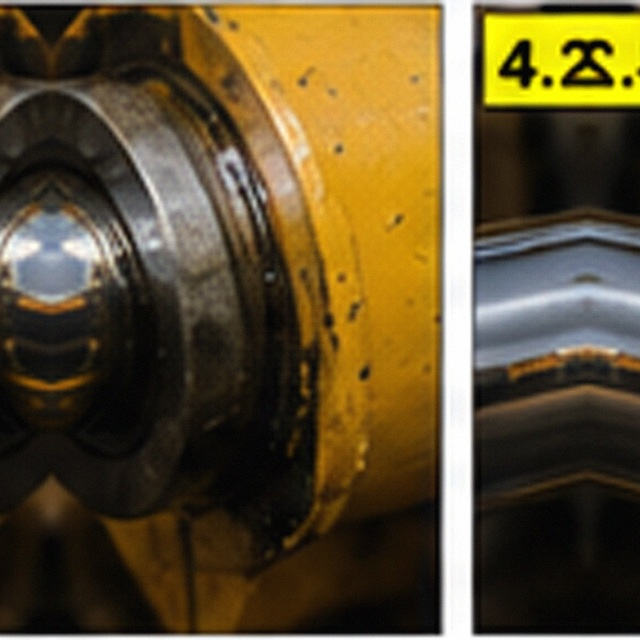hydraulic_oil_leak: (191, 252, 403, 466)
